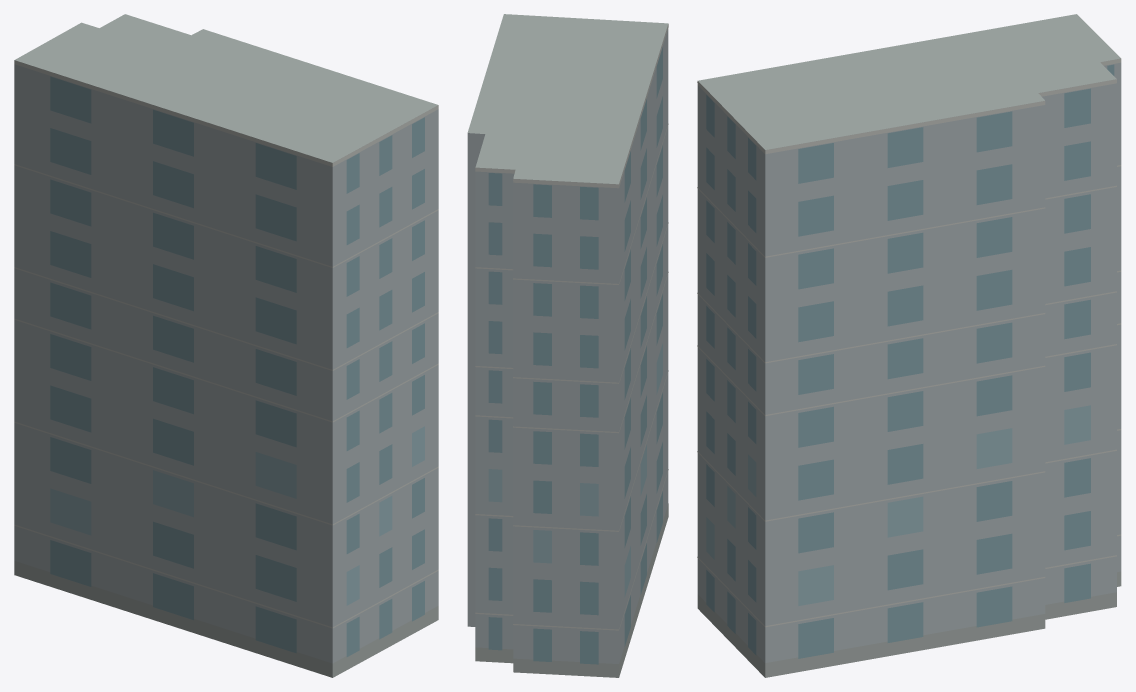
The model's file is survey-upis-32804002.glb.
3 renders of one model, left to right at view 1: azimuth 30°, elevation 25°; view 2: azimuth 150°, elevation 25°; view 3: azimuth 270°, elevation 25°, orthographic. The views are drawn at different scales.
Parts seen in each view (by area): view 1: survey-upis-32804002.tmp; view 2: survey-upis-32804002.tmp; view 3: survey-upis-32804002.tmp.
Boxes of the visible parts, x1,y1,x2,y2 form: survey-upis-32804002.tmp: [14, 14, 438, 677]; survey-upis-32804002.tmp: [467, 14, 668, 677]; survey-upis-32804002.tmp: [697, 14, 1121, 677].
Bounding box in the file's own units: 16.89 × 30.5 × 22.21.
